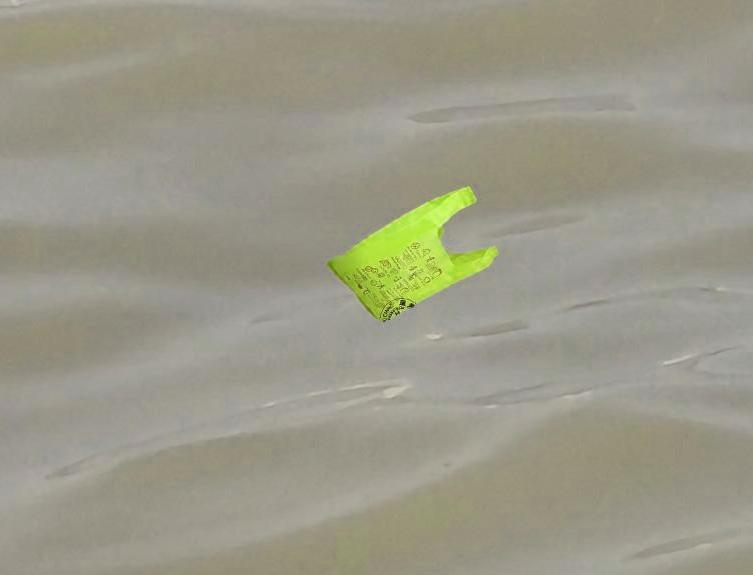Trash: (334, 182, 500, 331)
